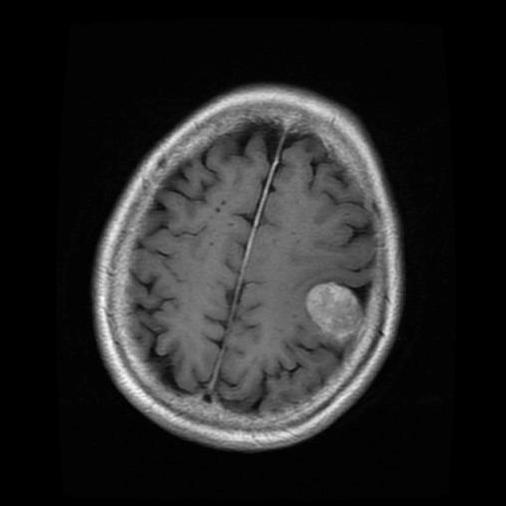Tumour-Meningioma: (297, 269, 371, 372)
